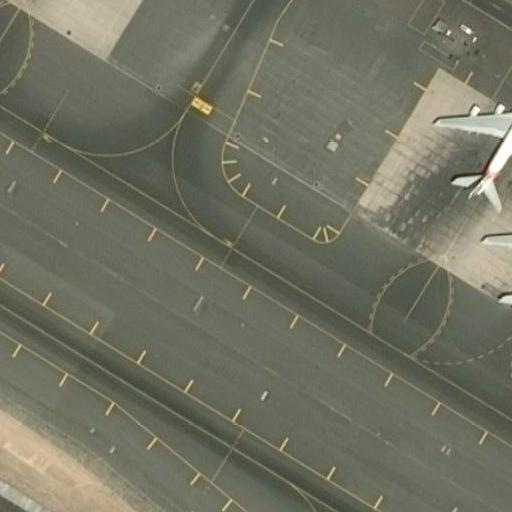Aircraft: (433, 73, 512, 206), (484, 189, 512, 332)
